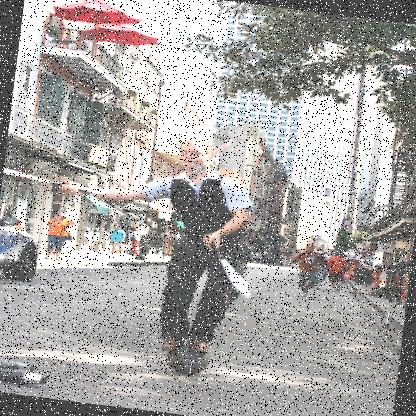Car: (0, 215, 42, 284)
